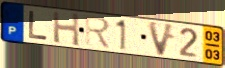1: (114, 19, 127, 52)
2: (178, 27, 200, 59)
H: (51, 10, 81, 48)
L: (28, 10, 50, 42)
R: (84, 14, 113, 51)
V: (146, 20, 177, 58)
